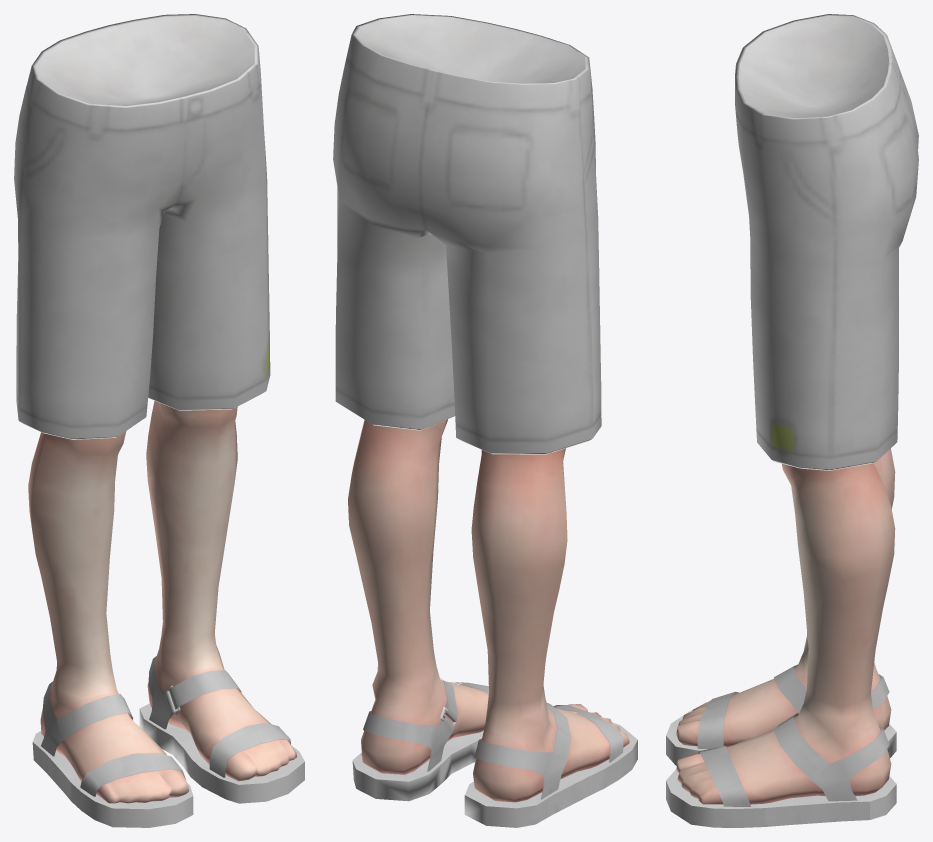
The model's file is tr0840_00_lwb01.gltf.
The picture shows the model from 3 angles, left to right: view 1: azimuth 30°, elevation 25°; view 2: azimuth 150°, elevation 25°; view 3: azimuth 270°, elevation 25°; orthographic projection. The views are drawn at different scales.
Parts seen in each view (by area): view 1: lwb01_lowerbody_mesh_shape:lowerbody01, lwb01_lowerbodyskin_mesh_shape:lowerbody01_skin, lwb01_shoes_mesh_shape:lowerbody01; view 2: lwb01_lowerbody_mesh_shape:lowerbody01, lwb01_lowerbodyskin_mesh_shape:lowerbody01_skin, lwb01_shoes_mesh_shape:lowerbody01; view 3: lwb01_lowerbody_mesh_shape:lowerbody01, lwb01_lowerbodyskin_mesh_shape:lowerbody01_skin, lwb01_shoes_mesh_shape:lowerbody01.
Part boxes in pixels (x1,y1,x2,y2): lwb01_lowerbody_mesh_shape:lowerbody01: [14, 14, 270, 439]; lwb01_lowerbodyskin_mesh_shape:lowerbody01_skin: [28, 401, 296, 803]; lwb01_shoes_mesh_shape:lowerbody01: [32, 656, 304, 827]; lwb01_lowerbody_mesh_shape:lowerbody01: [333, 14, 601, 454]; lwb01_lowerbodyskin_mesh_shape:lowerbody01_skin: [348, 419, 629, 802]; lwb01_shoes_mesh_shape:lowerbody01: [352, 678, 637, 827]; lwb01_lowerbody_mesh_shape:lowerbody01: [735, 14, 918, 470]; lwb01_lowerbodyskin_mesh_shape:lowerbody01_skin: [676, 448, 895, 804]; lwb01_shoes_mesh_shape:lowerbody01: [666, 664, 896, 827].
Size of what is drawn, in the model's own units: 0.349 by 0.9669 by 0.3093.
Materials: 2 (2 with a texture image).
